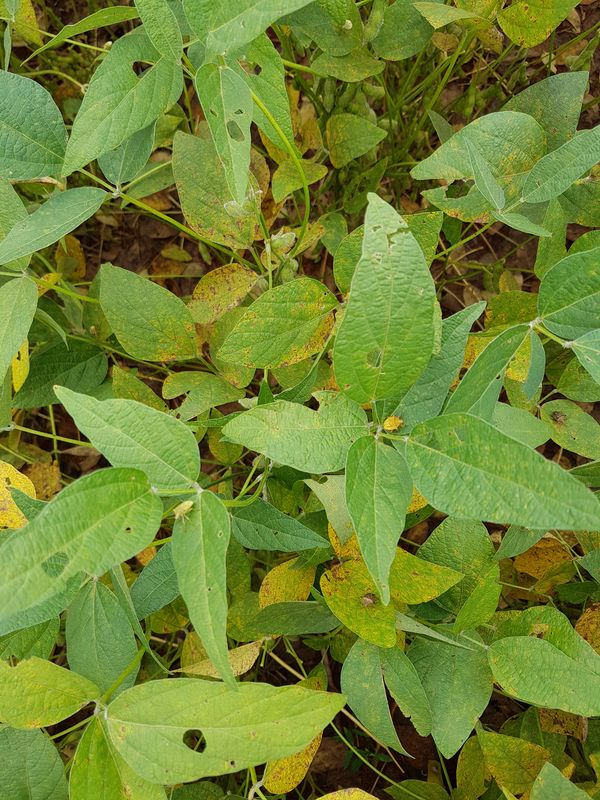Euschistus_heros_adulto: (355, 587, 384, 613), (545, 404, 572, 431)
Euschistus_heros_ninfa: (167, 493, 202, 529), (377, 407, 414, 440)
